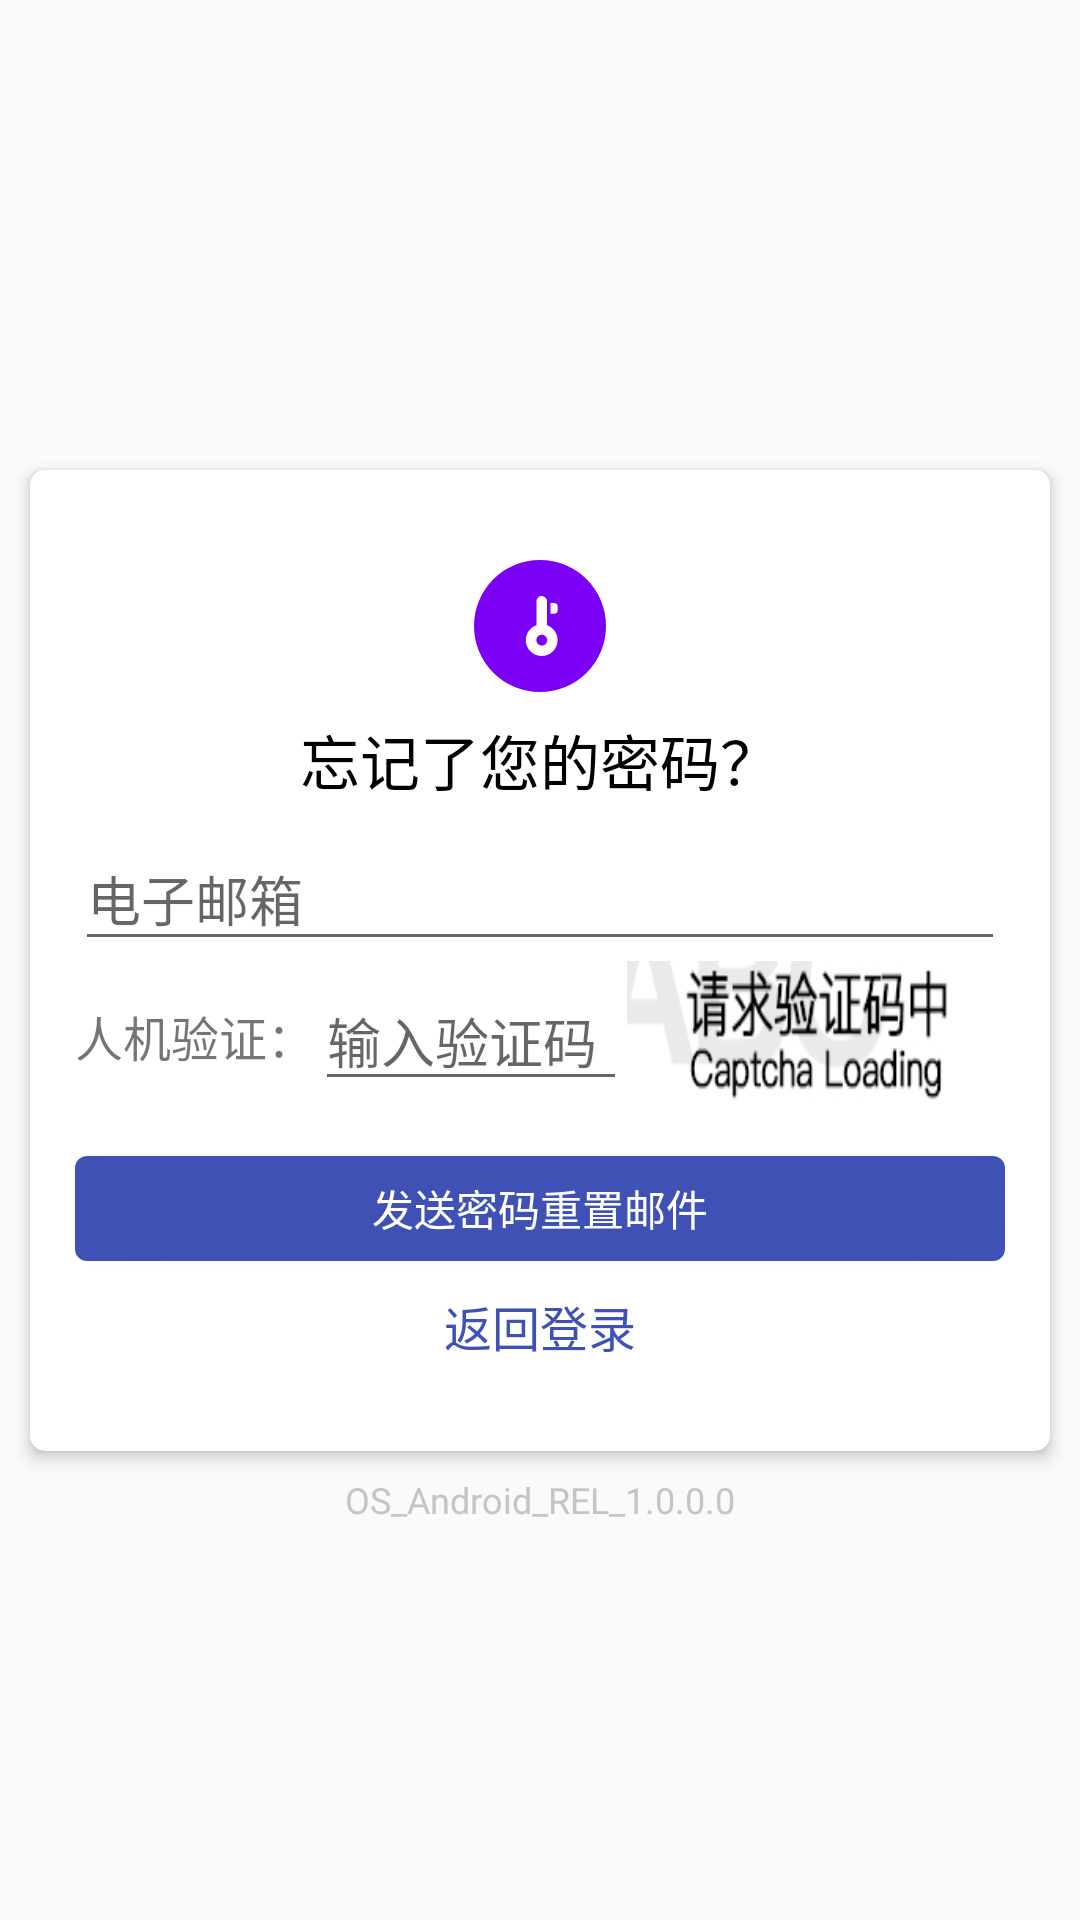

Locate icon controls on the screen. Image size 1080px x 1920px, boxes as bbox(x1, y1, x2, y2).
key: bbox(525, 596, 558, 656)
